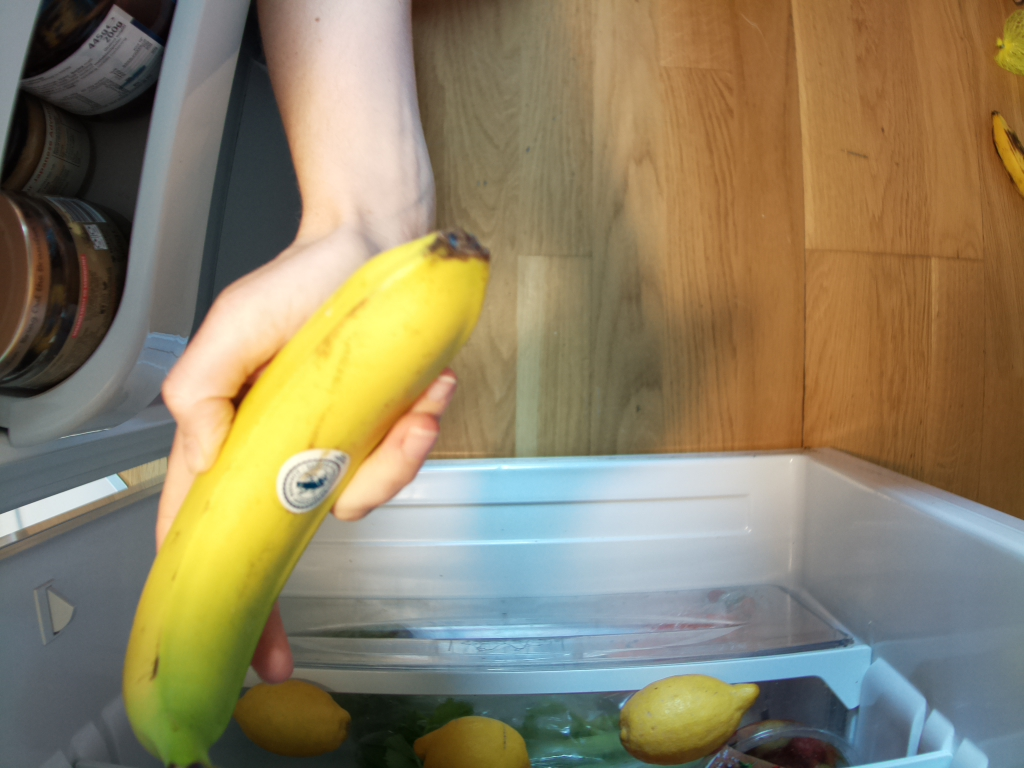banana-unripe: (129, 235, 501, 768)
